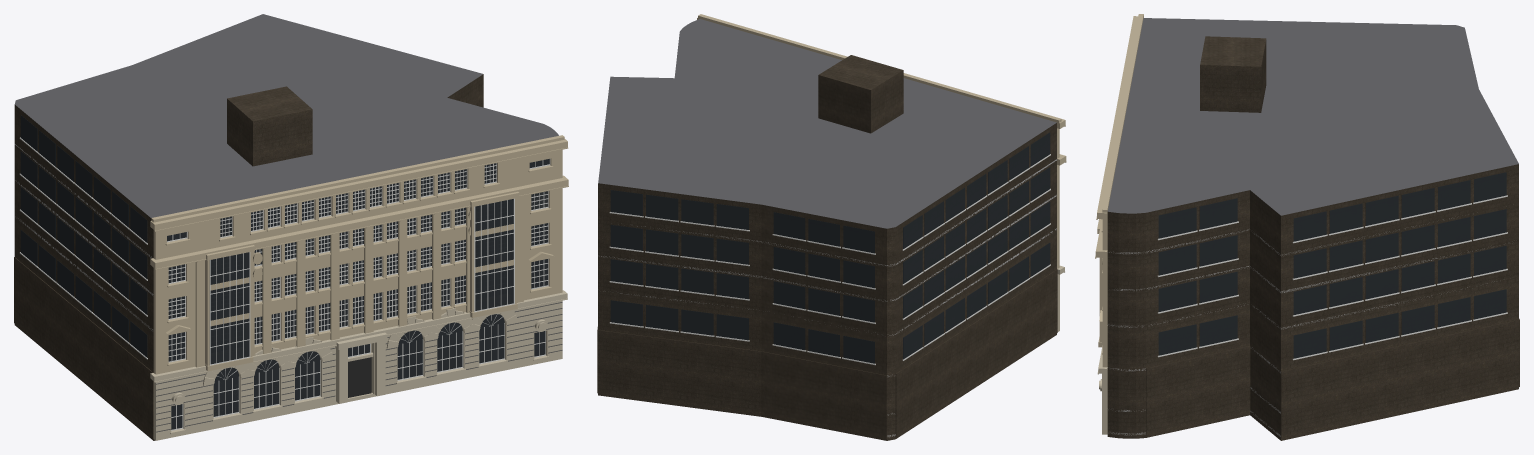
Rendered from barclay_hero.glb.
The picture shows the model from 3 angles, left to right: view 1: azimuth 30°, elevation 25°; view 2: azimuth 150°, elevation 25°; view 3: azimuth 270°, elevation 25°; orthographic projection. The views are drawn at different scales.
Parts seen in each view (by area): view 1: HERO_Concrete_block_Roof.001, HERO_Burmantofts_white_glazed_faience, HERO_Glass_dark, HERO_Portland_stone, HERO_Window_frame_white_painted, HERO_Concrete_block.001, HERO_Concrete_block, HERO_Rustication_channel, HERO_Door_dark.001; view 2: HERO_Concrete_block_Roof.001, HERO_Glass_dark, HERO_Concrete_block.001, HERO_Concrete_block, HERO_Window_frame_white_painted, HERO_Burmantofts_white_glazed_faience, Floor_04, Floor_05; view 3: HERO_Concrete_block_Roof.001, HERO_Glass_dark, HERO_Concrete_block.001, HERO_Concrete_block, HERO_Burmantofts_white_glazed_faience, HERO_Window_frame_white_painted, HERO_Portland_stone, Floor_04.
Boxes of the visible parts, x1,y1,x2,y2 form: HERO_Concrete_block_Roof.001: [14, 14, 558, 440]; HERO_Burmantofts_white_glazed_faience: [150, 135, 568, 374]; HERO_Glass_dark: [20, 115, 549, 429]; HERO_Portland_stone: [150, 290, 567, 440]; HERO_Window_frame_white_painted: [19, 137, 550, 430]; HERO_Concrete_block.001: [14, 257, 153, 438]; HERO_Concrete_block: [227, 86, 312, 166]; HERO_Rustication_channel: [156, 302, 562, 432]; HERO_Door_dark.001: [348, 357, 371, 397]; HERO_Concrete_block_Roof.001: [598, 19, 1056, 440]; HERO_Glass_dark: [610, 132, 1050, 363]; HERO_Concrete_block.001: [597, 269, 1057, 438]; HERO_Concrete_block: [818, 55, 903, 133]; HERO_Window_frame_white_painted: [609, 154, 1050, 365]; HERO_Burmantofts_white_glazed_faience: [697, 14, 1066, 268]; Floor_04: [598, 195, 1056, 301]; Floor_05: [637, 159, 1056, 266]; HERO_Concrete_block_Roof.001: [1107, 18, 1518, 440]; HERO_Glass_dark: [1158, 172, 1506, 358]; HERO_Concrete_block.001: [1146, 318, 1519, 438]; HERO_Concrete_block: [1200, 36, 1266, 112]; HERO_Burmantofts_white_glazed_faience: [1095, 14, 1143, 367]; HERO_Window_frame_white_painted: [1157, 195, 1507, 360]; HERO_Portland_stone: [1097, 345, 1107, 434]; Floor_04: [1114, 248, 1484, 292].
Size of the model in its own units: 38.64 by 24.43 by 34.67.
10 materials, 2 textured.
